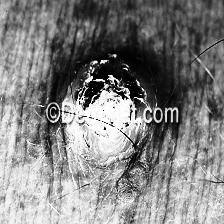Benign Marking or Mole: (61, 59, 153, 156)
